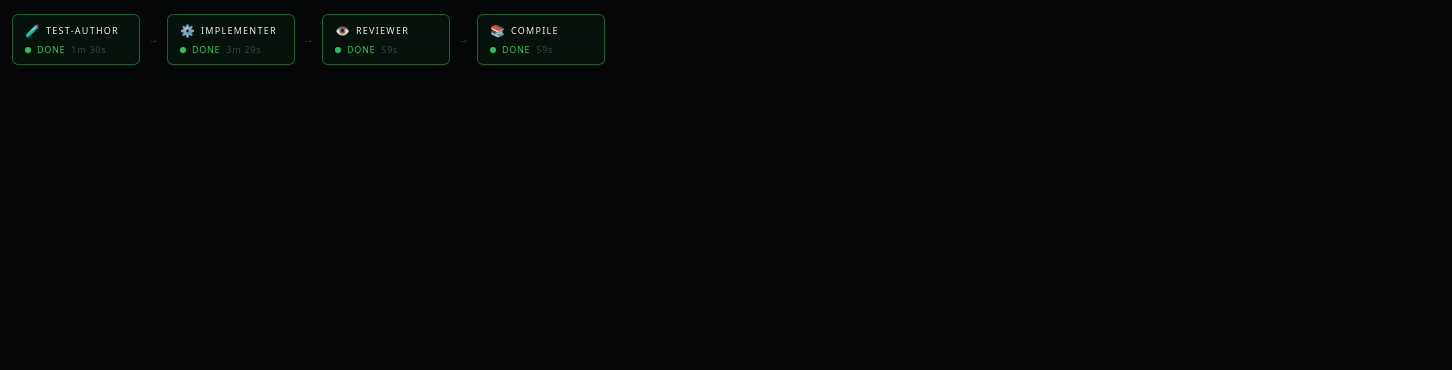
StoryStagePipeline — audit tabs (B2) › clicking a pill opens the matching stage panel; clicking again closes it
This screenshot has width=1452, height=370.
Click the text "Test-Author".
click(82, 31)  # box [46,24,119,38]
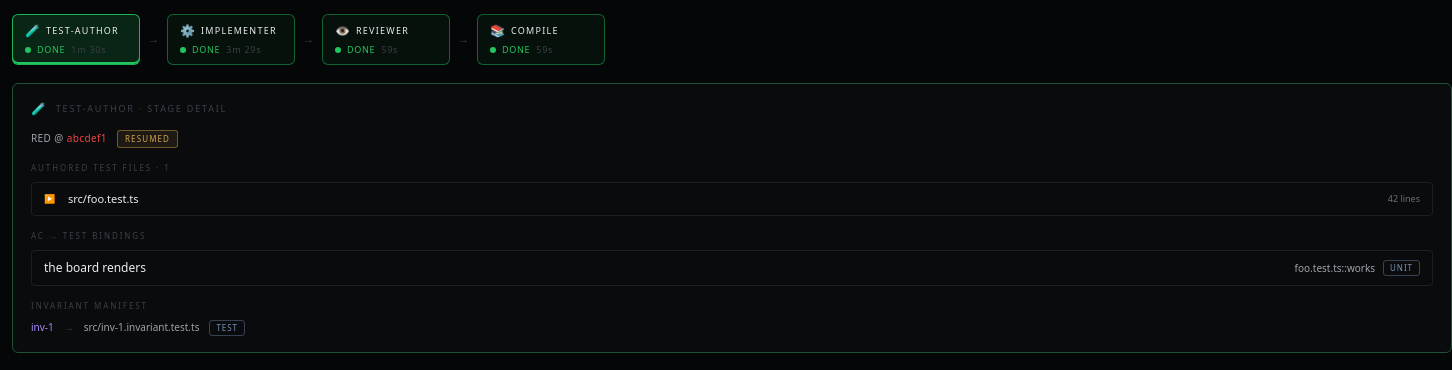
Expected: the element with test id "stage-panel-test-author" is shown
Switch to a different pill.
Click the text "Implementer".
click(239, 31)  # box [201,24,277,38]
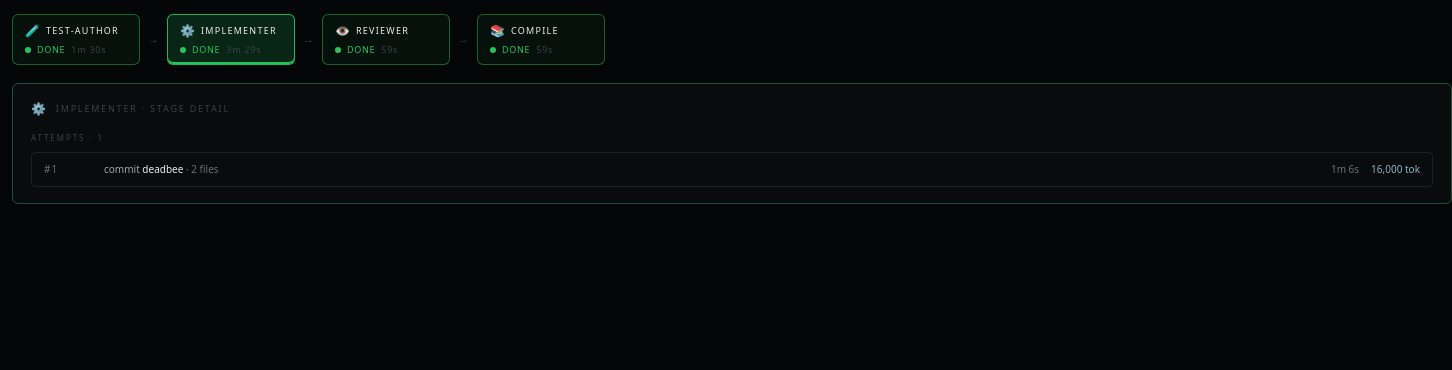
Expected: the element with test id "stage-panel-story-dev" is shown, [12,82,1451,204]
Toggle off.
Click the text "Implementer".
click(239, 31)  # box [201,24,277,38]
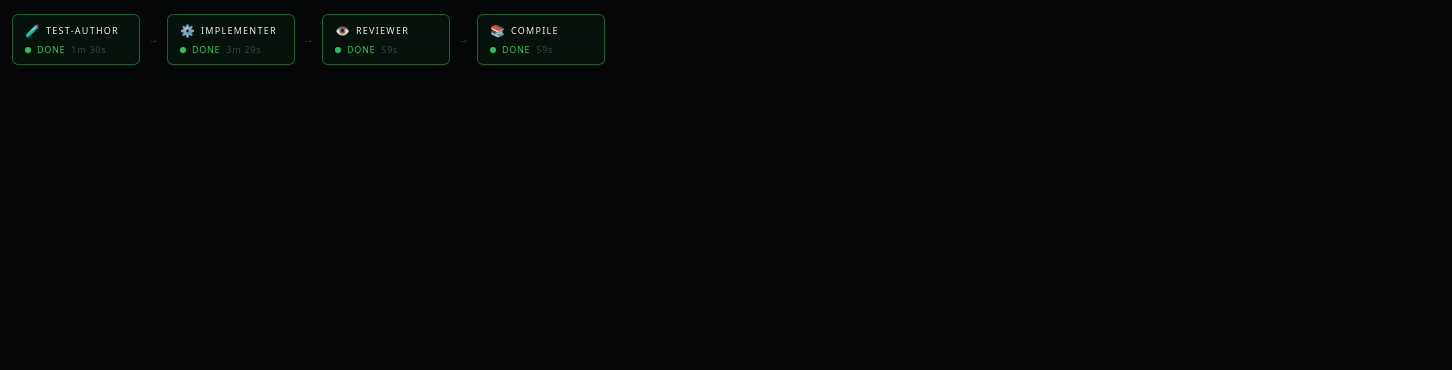
Expected: the element with test id "stage-panel-story-dev" is gone
